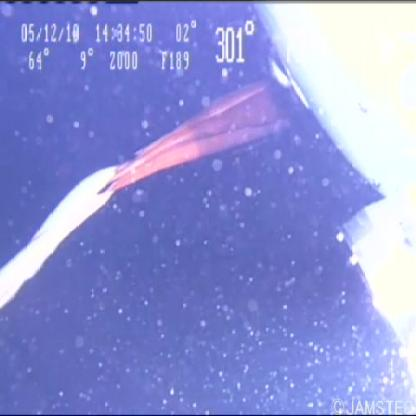Bio: (1, 67, 308, 311)
